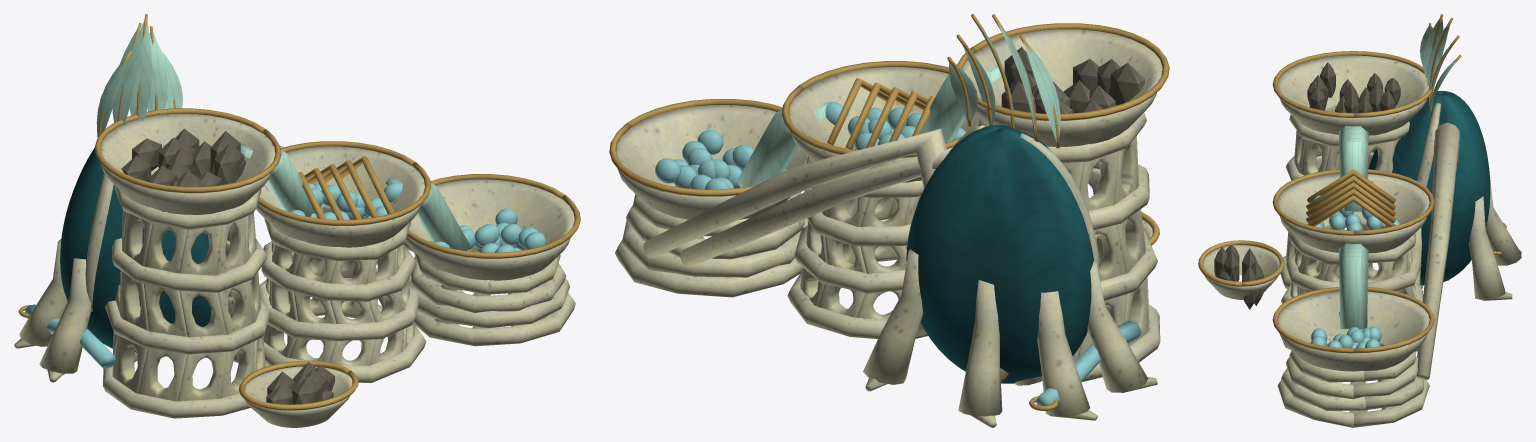
The model's file is 08_mineral_washery.glb.
3 renders of one model, left to right at view 1: azimuth 30°, elevation 25°; view 2: azimuth 150°, elevation 25°; view 3: azimuth 270°, elevation 25°, orthographic. The views are drawn at different scales.
Visible parts, largest first — view 1: GrowthFrameMesh.007, GrowthShellMesh.007, CargoInput__raw_silicateMesh, GrowthSoftMesh.006, CargoOutput__prepared_silicaMesh.001, FlowMesh, ResidueMesh; view 2: GrowthFrameMesh.007, GrowthShellMesh.007, CargoOutput__prepared_silicaMesh.001, CargoInput__raw_silicateMesh, FlowMesh, GrowthSoftMesh.006; view 3: GrowthFrameMesh.007, GrowthShellMesh.007, FlowMesh, CargoInput__raw_silicateMesh, CargoOutput__prepared_silicaMesh.001, ResidueMesh, GrowthSoftMesh.006.
Part boxes in pixels (left/top/right/bottom): GrowthFrameMesh.007: left=14, top=14, right=580, bottom=427; GrowthShellMesh.007: left=24, top=148, right=211, bottom=368; CargoInput__raw_silicateMesh: left=121, top=128, right=245, bottom=211; GrowthSoftMesh.006: left=96, top=20, right=182, bottom=137; CargoOutput__prepared_silicaMesh.001: left=289, top=182, right=546, bottom=252; FlowMesh: left=240, top=144, right=469, bottom=251; ResidueMesh: left=266, top=362, right=335, bottom=417; GrowthFrameMesh.007: left=609, top=14, right=1169, bottom=427; GrowthShellMesh.007: left=906, top=125, right=1141, bottom=411; CargoOutput__prepared_silicaMesh.001: left=655, top=102, right=966, bottom=189; CargoInput__raw_silicateMesh: left=1001, top=47, right=1144, bottom=113; FlowMesh: left=737, top=64, right=1004, bottom=187; GrowthSoftMesh.006: left=949, top=22, right=1060, bottom=142; GrowthFrameMesh.007: left=1198, top=14, right=1521, bottom=427; GrowthShellMesh.007: left=1368, top=90, right=1490, bottom=285; FlowMesh: left=1338, top=125, right=1368, bottom=329; CargoInput__raw_silicateMesh: left=1307, top=62, right=1400, bottom=112; CargoOutput__prepared_silicaMesh.001: left=1311, top=195, right=1399, bottom=348; ResidueMesh: left=1214, top=245, right=1263, bottom=309; GrowthSoftMesh.006: left=1420, top=19, right=1457, bottom=112.
Bounding box in the file's own units: 4.58 × 2.94 × 3.17.
7 materials, 7 textured.
